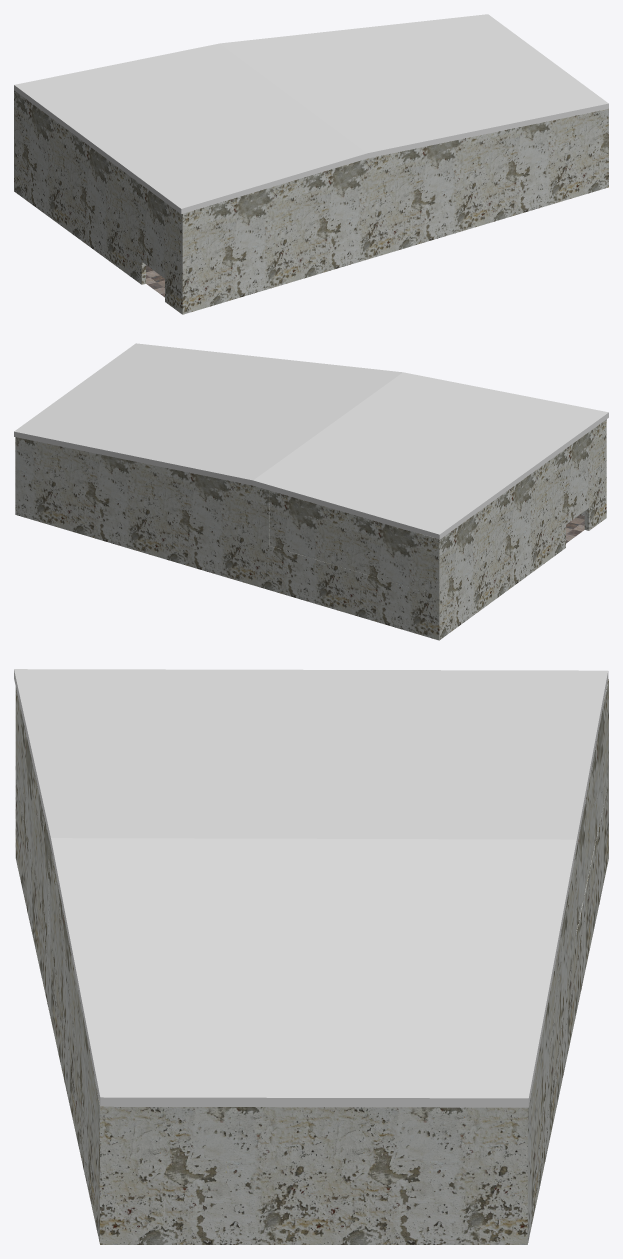
The model's file is CINEfinal.fbx.
3 views of the same model, one above another, from view 1: azimuth 30°, elevation 25°; view 2: azimuth 150°, elevation 25°; view 3: azimuth 270°, elevation 25° (orthographic). The views are drawn at different scales.
Visible parts, largest first — view 1: Cube, CINEV5; view 2: Cube, CINEV5; view 3: Cube, CINEV5.
Part boxes in pixels (x1,y1,x2,y2): Cube: (14,14,608,214); CINEV5: (14,90,608,314); Cube: (14,343,608,539); CINEV5: (15,419,606,640); Cube: (14,669,608,1107); CINEV5: (15,679,608,1244).
Size of the model in its own units: 4113 by 925 by 2659.
